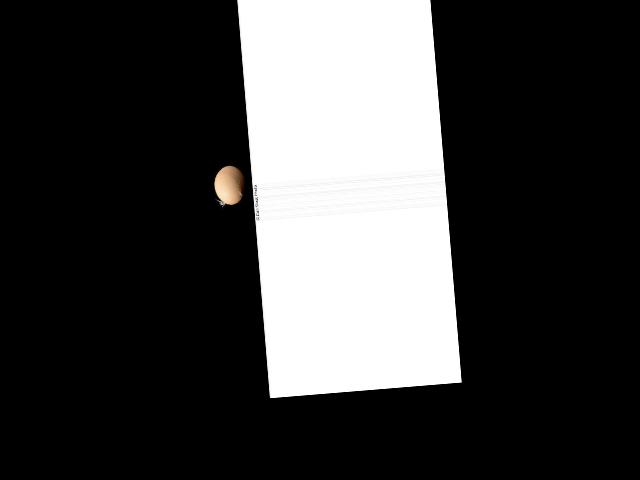egg: (213, 164, 247, 205)
